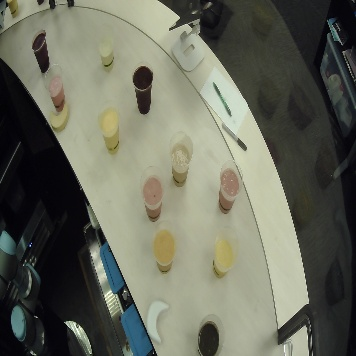full_cup: (140, 165, 166, 221), (167, 131, 193, 187), (130, 59, 156, 115), (97, 99, 123, 155), (217, 158, 243, 214), (212, 222, 238, 278), (152, 221, 177, 273), (196, 313, 224, 355), (43, 63, 66, 112), (94, 22, 117, 71), (28, 28, 49, 73), (6, 1, 21, 17)
puck: (146, 297, 170, 343), (50, 104, 70, 133)
